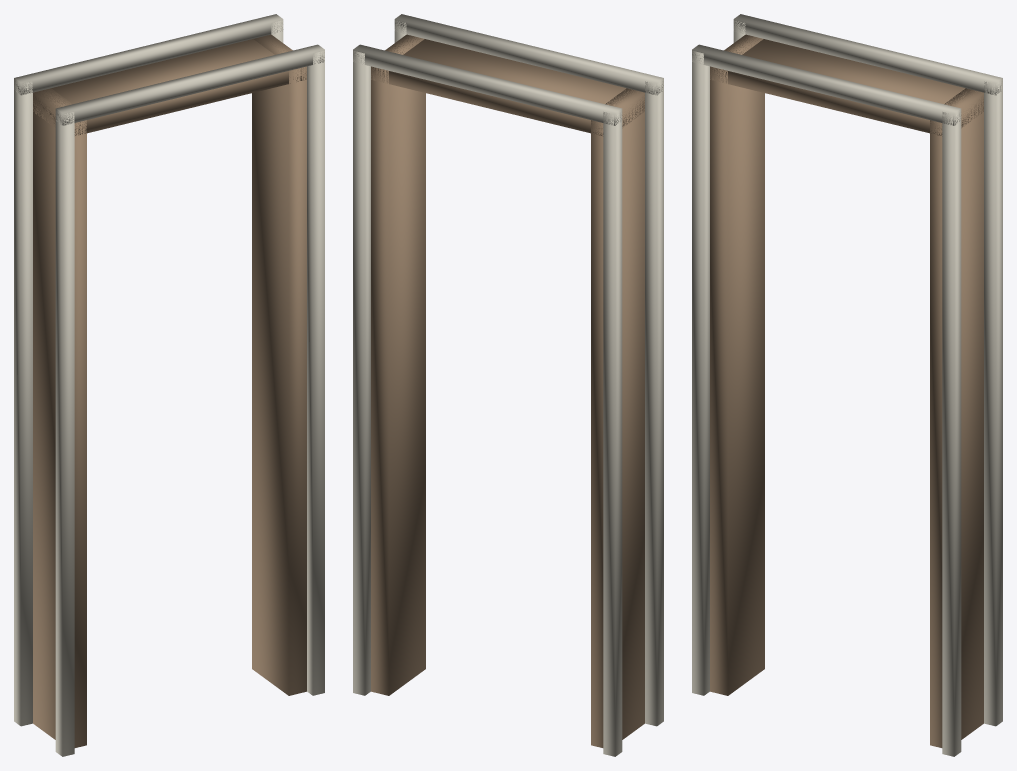
The model's file is doorway_painted_trim_w76_h220_d24.glb.
The picture shows the model from 3 angles, left to right: view 1: azimuth 30°, elevation 25°; view 2: azimuth 150°, elevation 25°; view 3: azimuth 330°, elevation 25°; orthographic projection.
Parts seen in each view (by area): view 1: world; view 2: world; view 3: world.
Part boxes in pixels (x1=…): world: x1=14, y1=14, x2=324, y2=756; world: x1=353, y1=14, x2=663, y2=756; world: x1=692, y1=14, x2=1002, y2=756.
Size of the model in its own units: 0.9868 by 2.31 by 0.3165.
